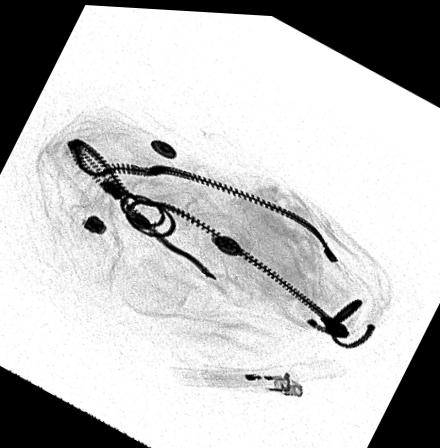Lighter: (168, 364, 303, 393)
